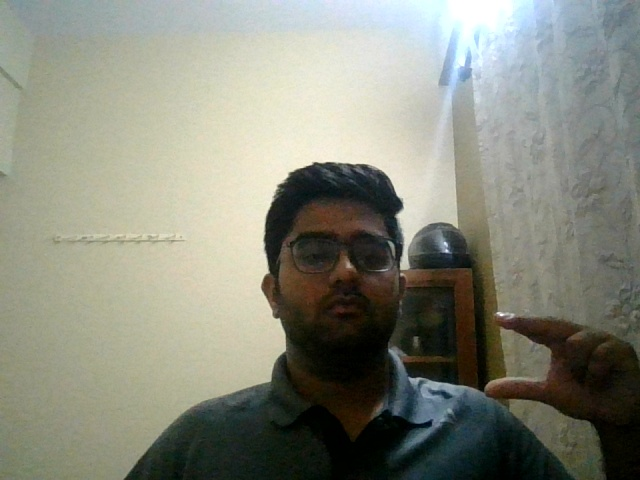No: (477, 289, 640, 441)
